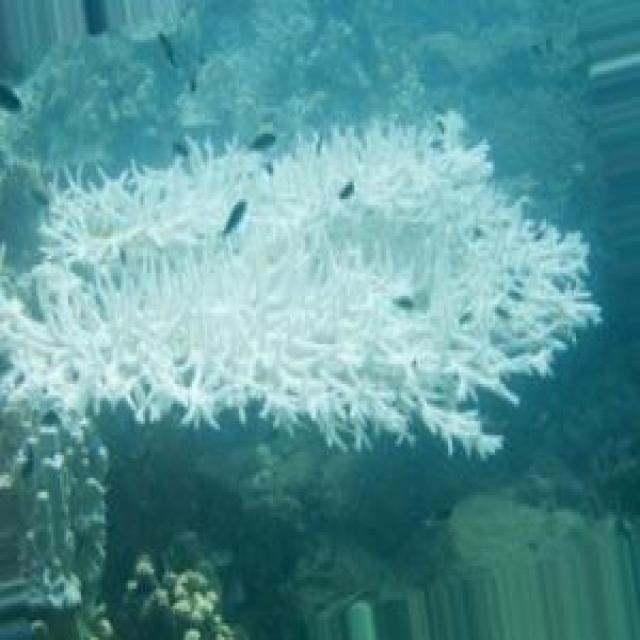bleached coral: (41, 228, 213, 313), (478, 213, 585, 313), (335, 159, 446, 250), (175, 310, 286, 395), (224, 182, 305, 267), (354, 310, 439, 390), (13, 347, 96, 415)
healthy coral: (237, 458, 311, 640), (19, 43, 145, 134), (194, 40, 284, 125), (111, 475, 181, 583), (378, 506, 461, 592), (384, 31, 446, 97)
